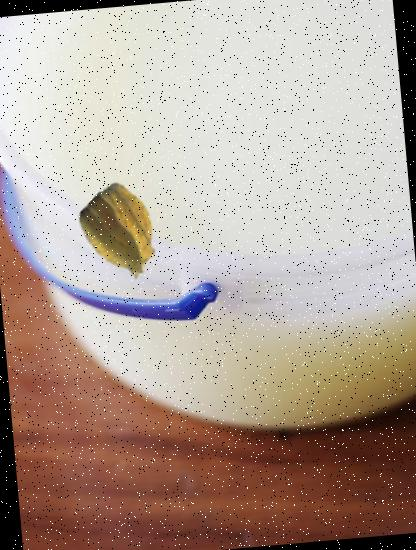Physalis: (75, 182, 173, 280)
